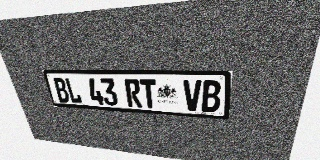3: (100, 78, 118, 106)
4: (86, 78, 105, 105)
B: (202, 80, 221, 112), (52, 77, 71, 103)
L: (64, 78, 83, 104)
R: (124, 79, 142, 107)
T: (140, 79, 158, 108)
V: (183, 80, 201, 111)
